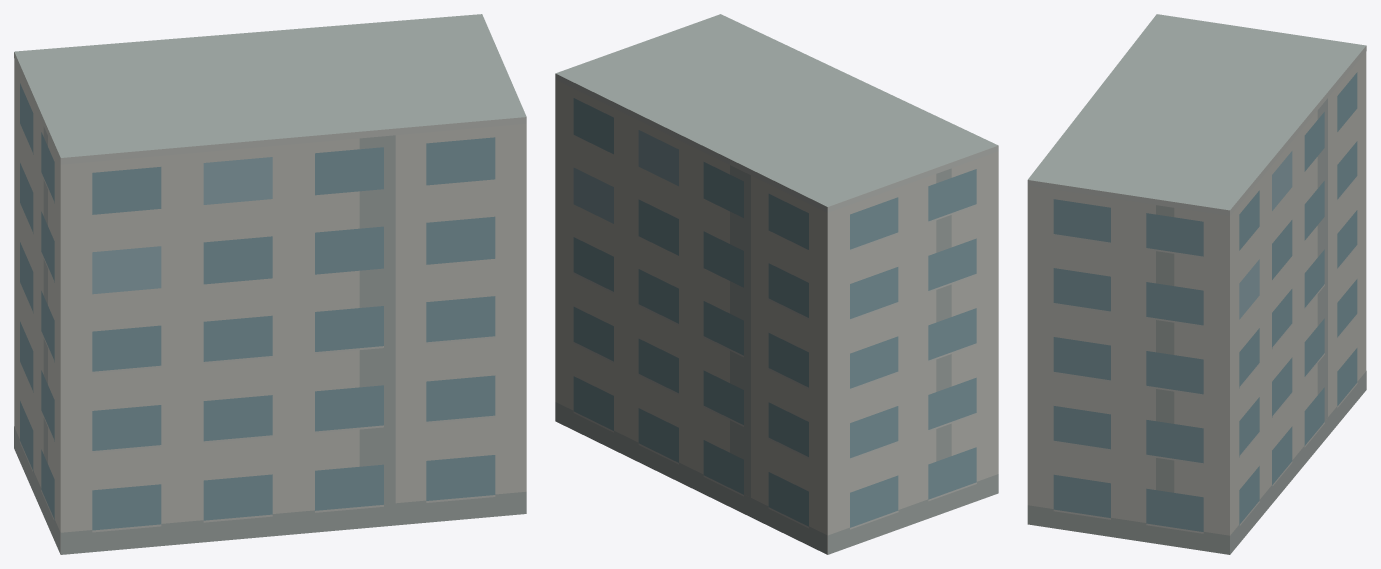
Rendered from survey-upis-32888394.glb.
The picture shows the model from 3 angles, left to right: view 1: azimuth 30°, elevation 25°; view 2: azimuth 150°, elevation 25°; view 3: azimuth 270°, elevation 25°; orthographic projection. The views are drawn at different scales.
Visible parts, largest first — view 1: survey-upis-32888394.tmp; view 2: survey-upis-32888394.tmp; view 3: survey-upis-32888394.tmp.
Boxes of the visible parts, <box> form: survey-upis-32888394.tmp: <box>14,14,526,554</box>; survey-upis-32888394.tmp: <box>555,14,998,554</box>; survey-upis-32888394.tmp: <box>1027,14,1366,554</box>.
Bounding box in the file's own units: 17.59 × 14.38 × 12.83.
